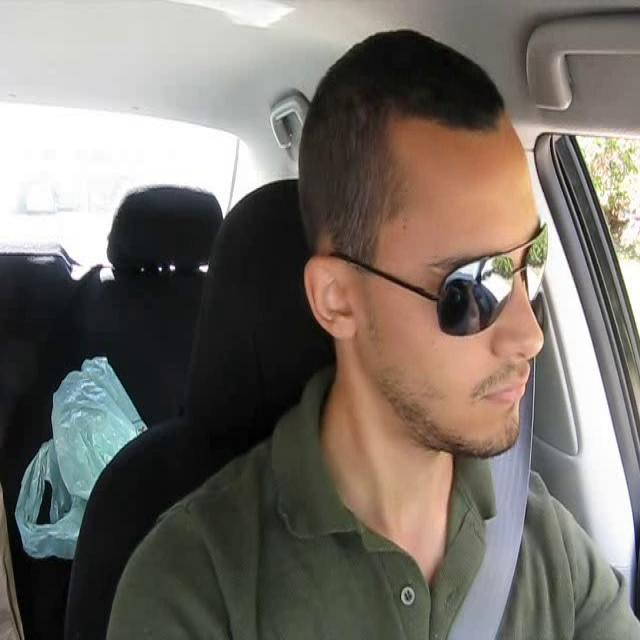close: (474, 368, 532, 410)
